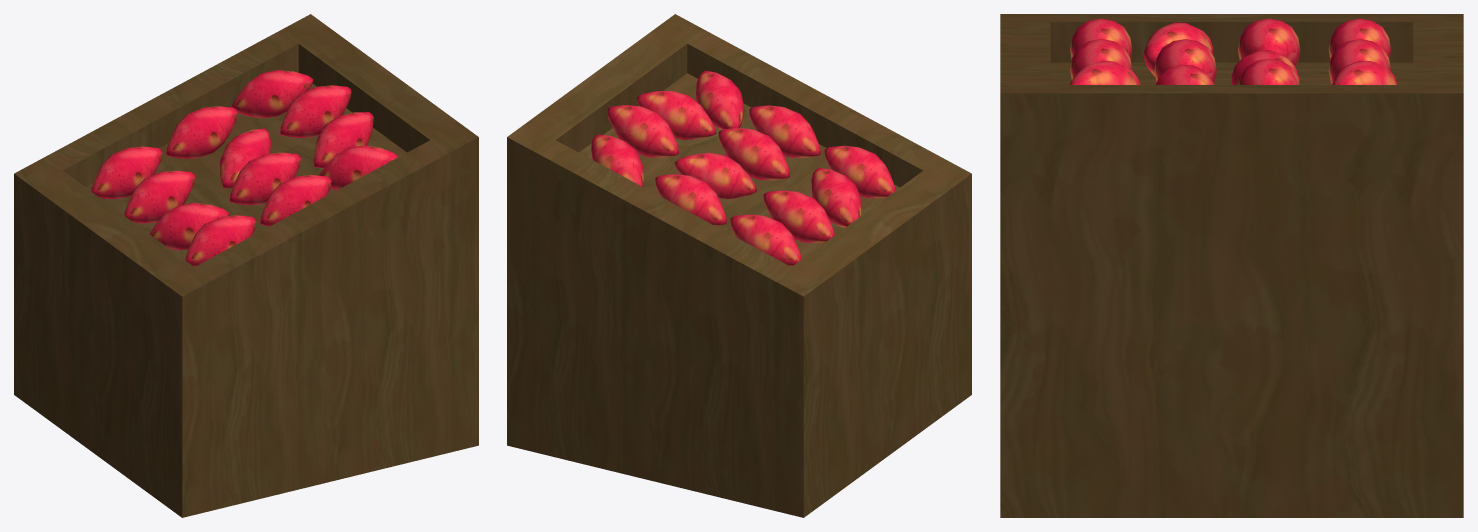
Rendered from CAMOTE_SPAWNER_PRP.fbx.
3 renders of one model, left to right at view 1: azimuth 30°, elevation 25°; view 2: azimuth 150°, elevation 25°; view 3: azimuth 270°, elevation 25°, orthographic. The views are drawn at different scales.
Visible parts, largest first — view 1: CAMOTE_SPAWNER_PRP; view 2: CAMOTE_SPAWNER_PRP; view 3: CAMOTE_SPAWNER_PRP.
Part boxes in pixels (<box>): CAMOTE_SPAWNER_PRP: <box>14,14,478,517</box>; CAMOTE_SPAWNER_PRP: <box>507,14,971,517</box>; CAMOTE_SPAWNER_PRP: <box>1000,14,1463,517</box>.
Bounding box in the file's own units: 47.33 × 47.02 × 46.47.
Materials: 2 (2 with a texture image).
